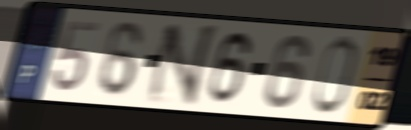0: (311, 33, 359, 118)
5: (50, 17, 103, 94)
6: (95, 19, 146, 100), (262, 32, 311, 111), (207, 29, 255, 107)
N: (141, 22, 223, 107)
